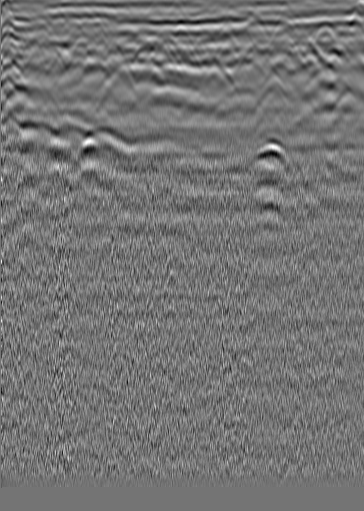가스: (249, 143, 292, 174)
상수: (1, 33, 21, 53)
오수: (314, 23, 334, 43)
우수: (156, 36, 176, 56)
